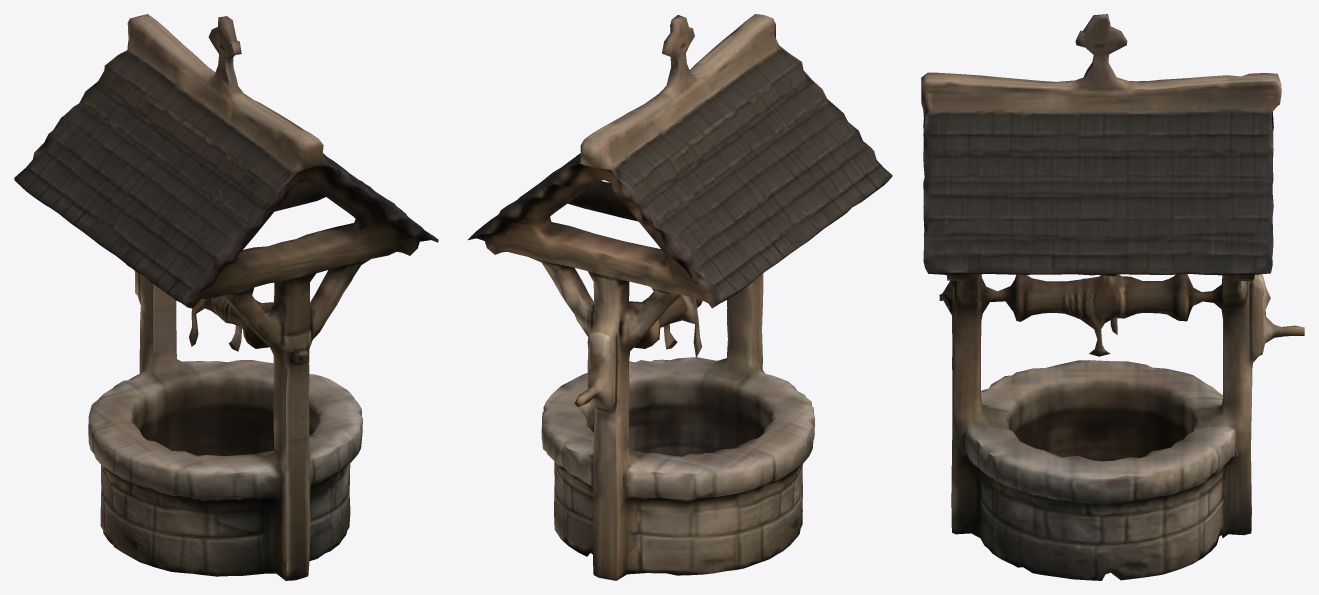
File: well.glb
3 views of the same model, side by side, from view 1: azimuth 30°, elevation 25°; view 2: azimuth 150°, elevation 25°; view 3: azimuth 270°, elevation 25° (orthographic).
Parts seen in each view (by area): view 1: Wishing Well; view 2: Wishing Well; view 3: Wishing Well.
Boxes of the visible parts, x1=… form: Wishing Well: x1=14, y1=14, x2=438, y2=580; Wishing Well: x1=468, y1=14, x2=892, y2=580; Wishing Well: x1=921, y1=14, x2=1304, y2=580.
Bounding box in the file's own units: 1.17 × 2.2 × 1.49.
1 material, 1 textured.
